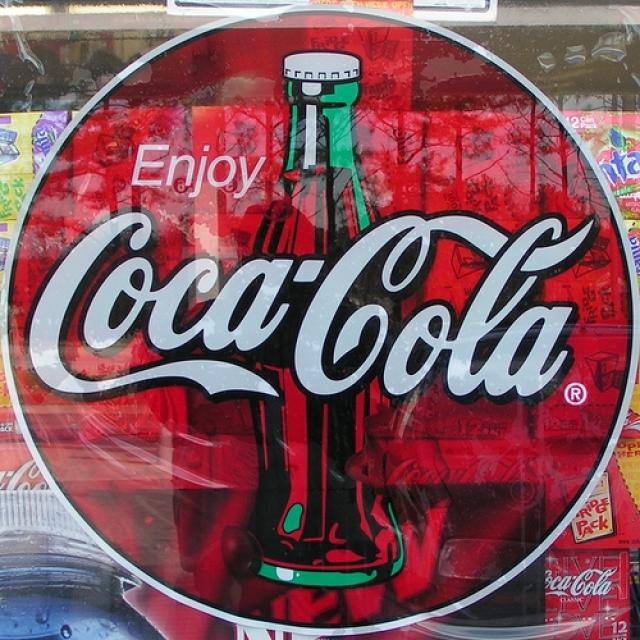cocacola: (15, 180, 608, 412), (544, 567, 622, 599)
